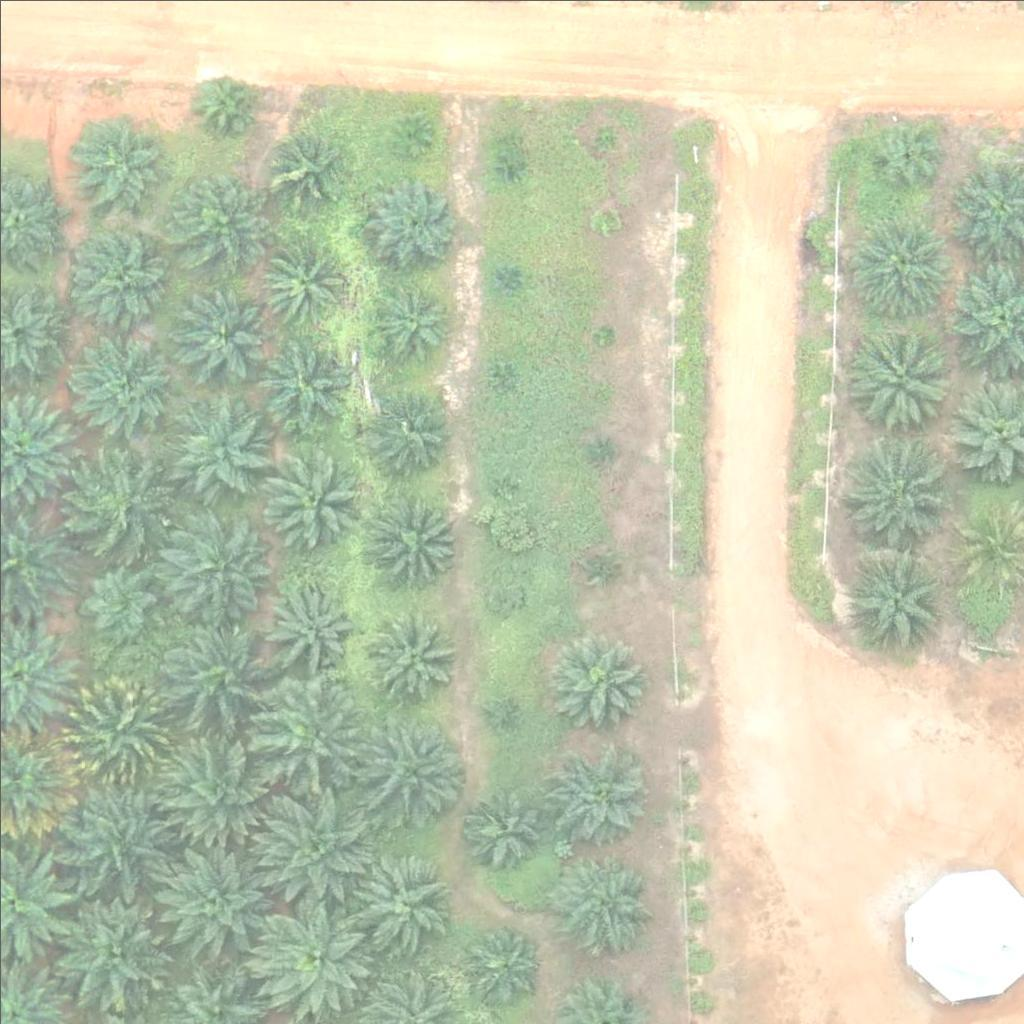Kelapa_Sawit: (355, 713, 468, 827), (52, 901, 165, 1014), (53, 783, 166, 896), (62, 673, 175, 786), (256, 785, 368, 899), (162, 615, 274, 729), (158, 512, 270, 626), (253, 679, 365, 793), (257, 896, 369, 1009), (154, 844, 266, 957), (165, 729, 277, 842), (356, 165, 468, 278), (837, 436, 949, 549), (555, 854, 655, 955), (171, 396, 271, 497), (262, 447, 362, 548), (254, 335, 354, 436), (547, 743, 647, 844), (549, 635, 649, 736), (167, 168, 267, 269), (73, 223, 173, 324), (68, 113, 168, 214), (847, 548, 947, 649), (350, 849, 450, 949), (66, 453, 166, 553), (73, 332, 173, 432), (852, 329, 952, 429), (847, 215, 947, 315), (362, 278, 450, 367), (365, 387, 453, 475), (256, 235, 344, 323), (177, 283, 264, 371), (265, 582, 352, 670), (365, 615, 452, 703), (372, 493, 459, 581), (459, 786, 546, 874), (866, 117, 941, 193), (464, 926, 539, 1002), (82, 566, 157, 642), (262, 130, 337, 205), (195, 69, 258, 132), (483, 573, 521, 611), (390, 118, 428, 156), (483, 701, 508, 726), (487, 471, 512, 496), (493, 355, 518, 380), (587, 551, 612, 576), (587, 438, 612, 463), (591, 320, 616, 345), (595, 208, 620, 233), (592, 124, 617, 149), (492, 266, 517, 291), (499, 156, 524, 181)
